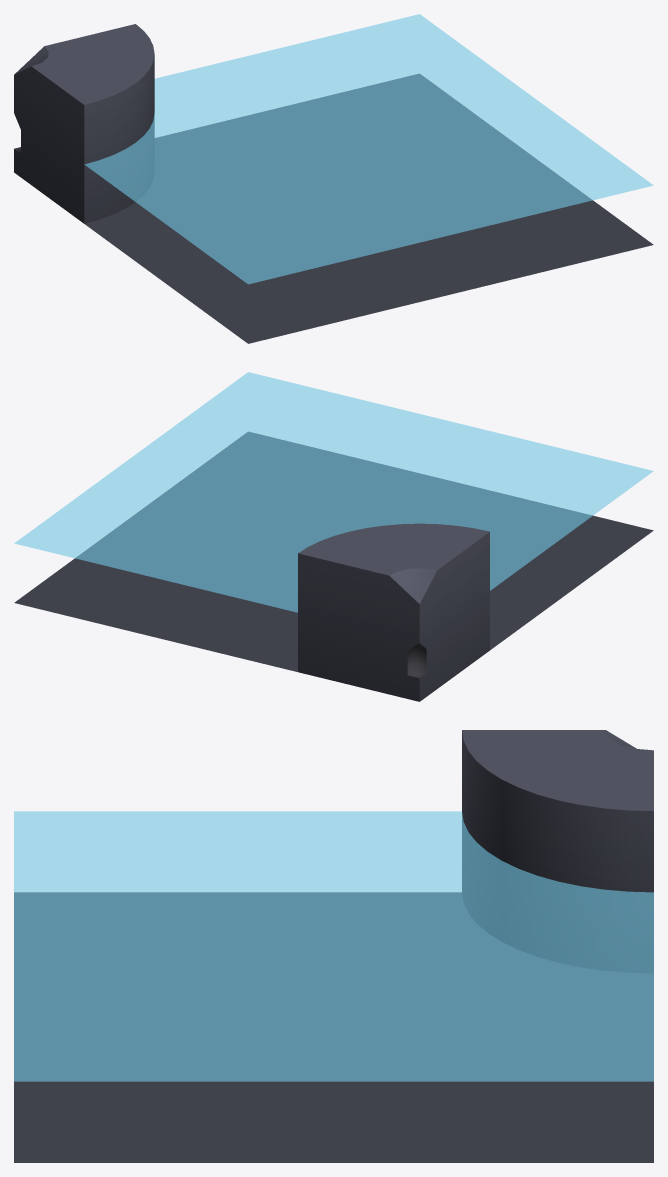
The model's file is fountain-corner-inner.glb.
3 views of the same model, one above another, from view 1: azimuth 30°, elevation 25°; view 2: azimuth 150°, elevation 25°; view 3: azimuth 270°, elevation 25° (orthographic). The views are drawn at different scales.
Parts seen in each view (by area): view 1: fountain-corner-inner, (_ignore); view 2: fountain-corner-inner, (_ignore); view 3: fountain-corner-inner, (_ignore).
Part boxes in pixels (x1,y1,x2,y2): fountain-corner-inner: (14, 24, 653, 343); (_ignore): (84, 14, 653, 284); fountain-corner-inner: (14, 432, 653, 701); (_ignore): (14, 372, 653, 612); fountain-corner-inner: (14, 730, 653, 1162); (_ignore): (14, 811, 653, 1081).
Bounding box in the file's own units: 1 × 0.28 × 1.
2 materials, 1 textured.
